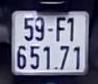1: (42, 44, 53, 71), (67, 15, 77, 44), (73, 45, 82, 72)
5: (22, 16, 35, 42), (29, 43, 41, 71)
6: (15, 43, 28, 70)
7: (57, 44, 69, 71)
9: (35, 16, 46, 42)
F: (54, 15, 66, 43)
